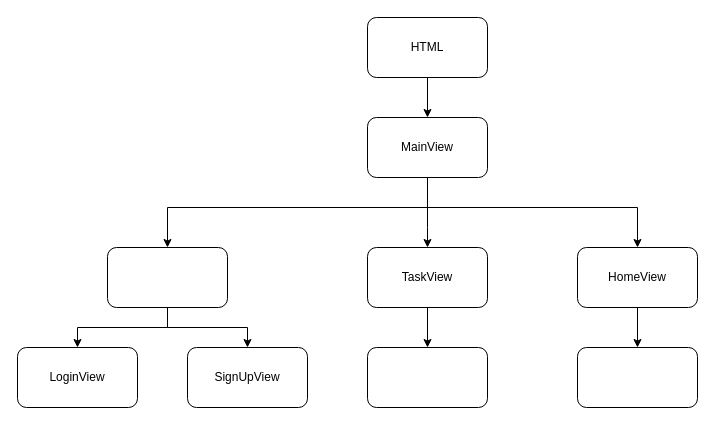
Image size: 715x425. Some labels were removed from this diagram. Each missing label, with the centre of its shape:
AuthView: pixel 167 277
CalendarView: pixel 427 377
IndexView: pixel 637 377
